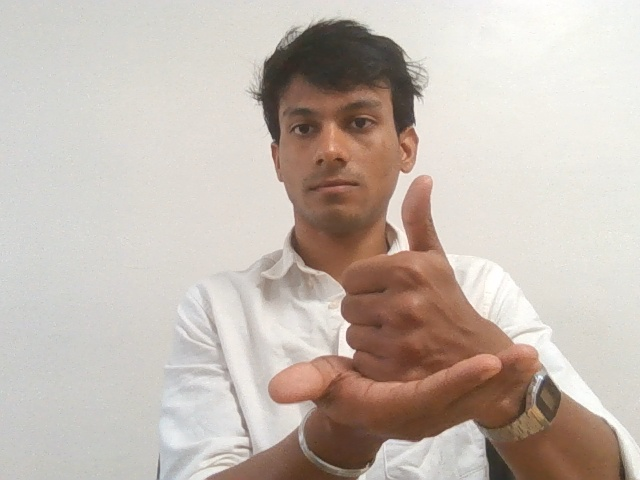Help: (262, 174, 555, 444)
